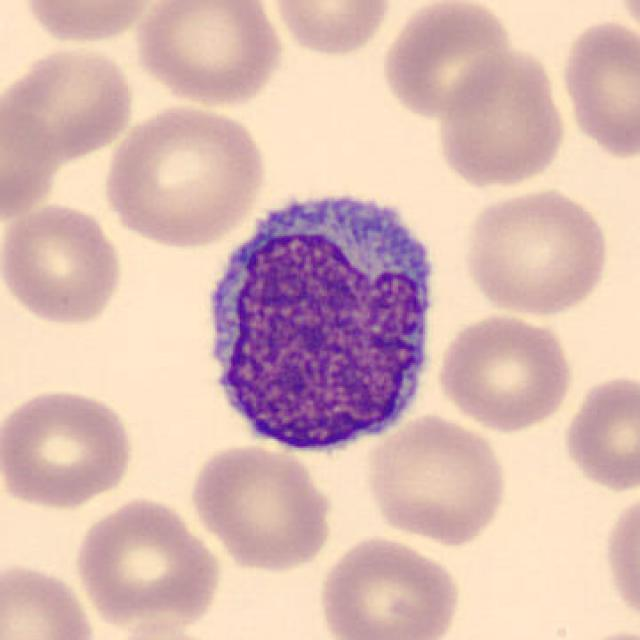Monocyte: (190, 174, 448, 470)
RBC: (100, 100, 270, 250), (69, 494, 224, 631), (459, 183, 613, 319), (186, 439, 338, 575), (432, 44, 569, 192), (363, 411, 512, 546), (432, 310, 576, 434), (2, 384, 138, 512), (129, 0, 286, 109), (376, 0, 515, 123), (0, 199, 128, 328), (2, 41, 138, 160), (315, 532, 464, 640), (556, 14, 638, 161), (558, 370, 638, 494), (0, 91, 66, 233), (0, 557, 100, 640), (265, 0, 395, 60), (18, 0, 167, 48), (601, 485, 640, 628), (106, 619, 228, 640), (611, 0, 640, 47), (560, 624, 638, 640)
